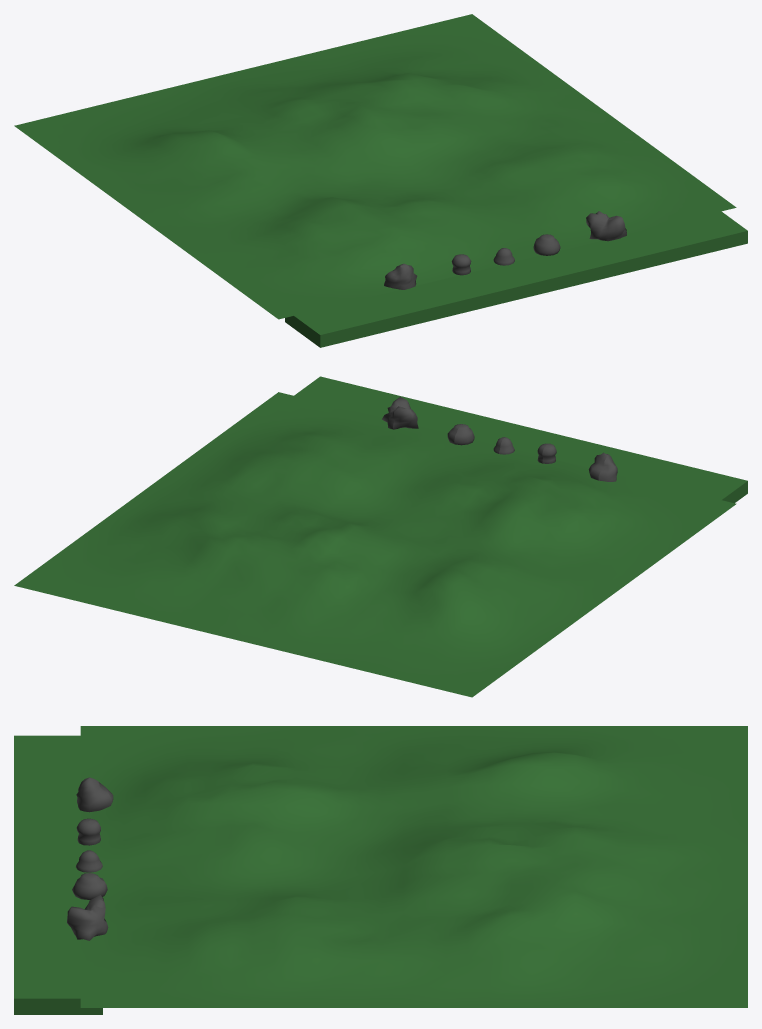
The model's file is stage24.glb.
3 views of the same model, one above another, from view 1: azimuth 30°, elevation 25°; view 2: azimuth 150°, elevation 25°; view 3: azimuth 270°, elevation 25° (orthographic). The views are drawn at different scales.
Parts seen in each view (by area): view 1: Landscape, Ground, Landscape.005, Landscape.004; view 2: Landscape, Ground, Landscape.005, Landscape.004; view 3: Landscape, Ground, Landscape.005, Landscape.004, Landscape.003, Landscape.002.
Part boxes in pixels (x1,y1,x2,y2): Landscape: [14, 14, 736, 319]; Ground: [285, 205, 747, 347]; Landscape.005: [586, 211, 626, 241]; Landscape.004: [384, 263, 417, 289]; Landscape: [14, 392, 736, 697]; Ground: [286, 376, 747, 506]; Landscape.005: [382, 397, 418, 429]; Landscape.004: [588, 452, 617, 481]; Landscape: [80, 726, 747, 1007]; Ground: [14, 735, 102, 1014]; Landscape.005: [67, 895, 108, 940]; Landscape.004: [76, 777, 113, 812]; Landscape.003: [72, 873, 107, 899]; Landscape.002: [76, 818, 100, 845].
Size of what is drawn, in the model's own units: 75 by 6.49 by 82.5.
